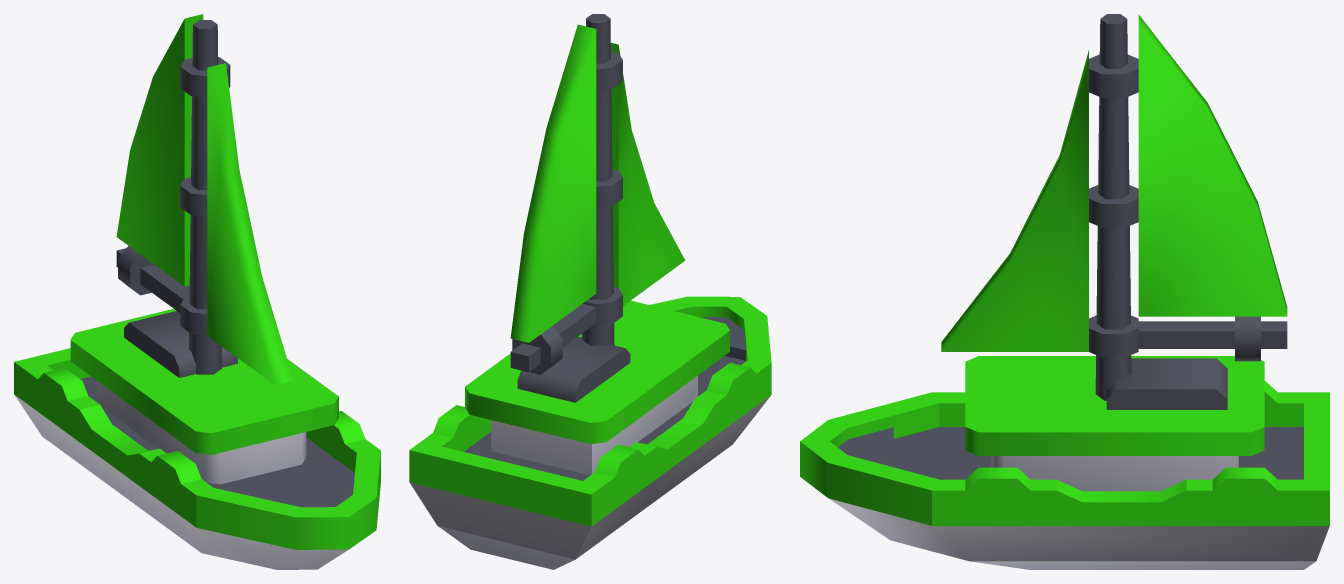
The model's file is boat-sail-b.glb.
3 views of the same model, side by side, from view 1: azimuth 30°, elevation 25°; view 2: azimuth 150°, elevation 25°; view 3: azimuth 270°, elevation 25° (orthographic). The views are drawn at different scales.
Parts seen in each view (by area): view 1: body.001, boat-sail-b; view 2: body.001, boat-sail-b; view 3: body.001, boat-sail-b.
Part boxes in pixels (x1,y1,x2,y2): body.001: (14,14,380,549); boat-sail-b: (15,20,354,569); body.001: (409,24,771,526); boat-sail-b: (409,14,770,569); body.001: (800,14,1329,525); boat-sail-b: (829,14,1329,569).
Bounding box in the file's own units: 1.78 × 4.48 × 4.07.
2 materials, 1 textured.
